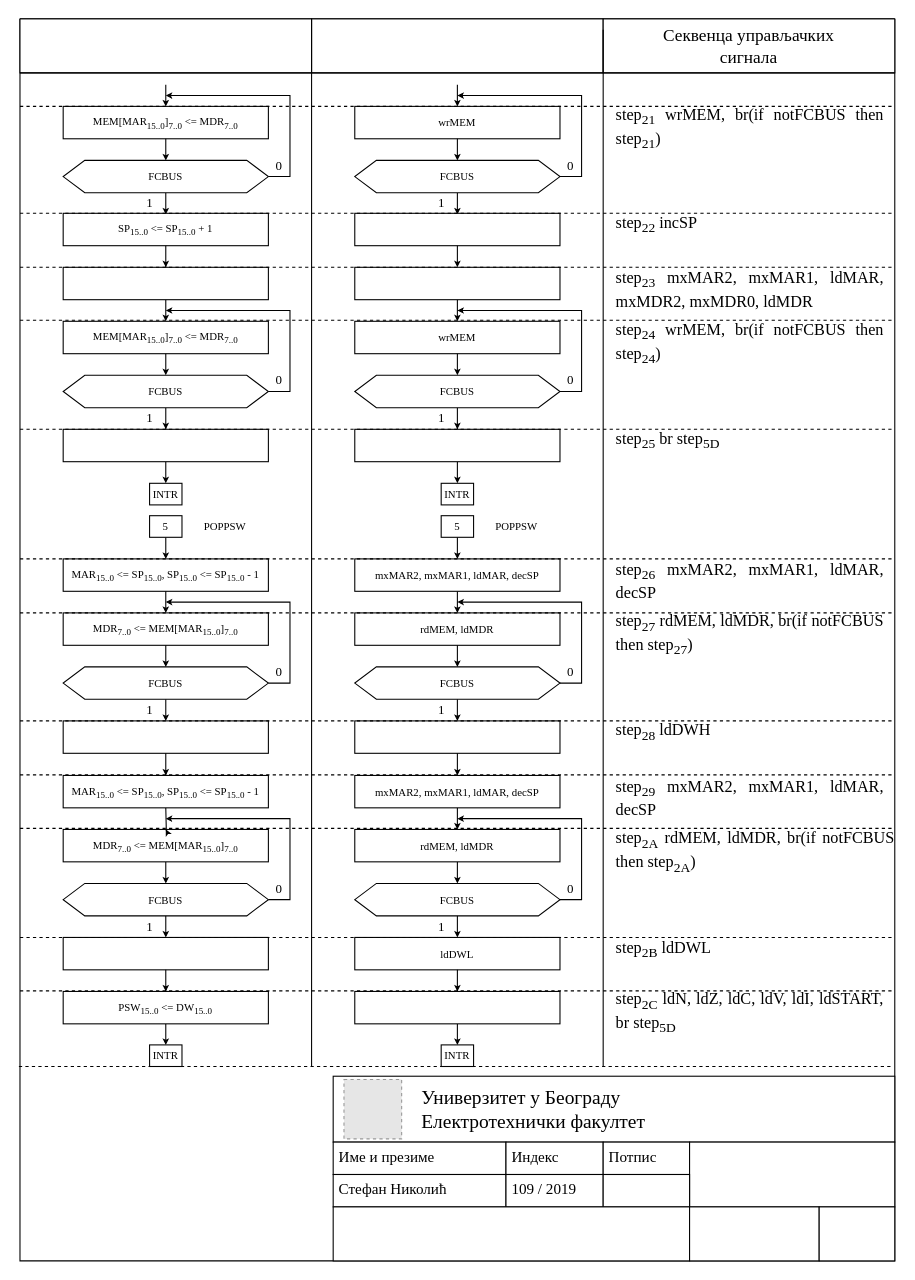
The diagram is 915 pixels wide and 1280 high, and some of its shapes have lost their labels. Grey dashed boxes stand in for pictures. Each missing label, with the centre of its shape:
DWH 7..0 <= MDR 7..0: (165,736)
DWL 7..0 <= MDR 7..0: (165,953)
incSP: (457,229)
ldDWH: (457,736)
ldN, ldZ, ldC, ldV, ldI, ldSTART: (457,1007)
MAR 15..0 <= SP 15..0 , MDR 7..0 <= PSW 15..8: (165,283)
mxMAR2, mxMAR1, ldMAR, mxMDR2, mxMDR0, ldMDR: (457,283)
Датум 25.09.2021.: (753,1233)
Дијаграм тока микрооперација: (165,45)
Дијаграм тока управљачких сигнала: (456,45)
Назив Основи рачунарске технике 2: (511,1233)
Пројекат Задатак 209: (791,1174)
Страна 10: (856,1233)
